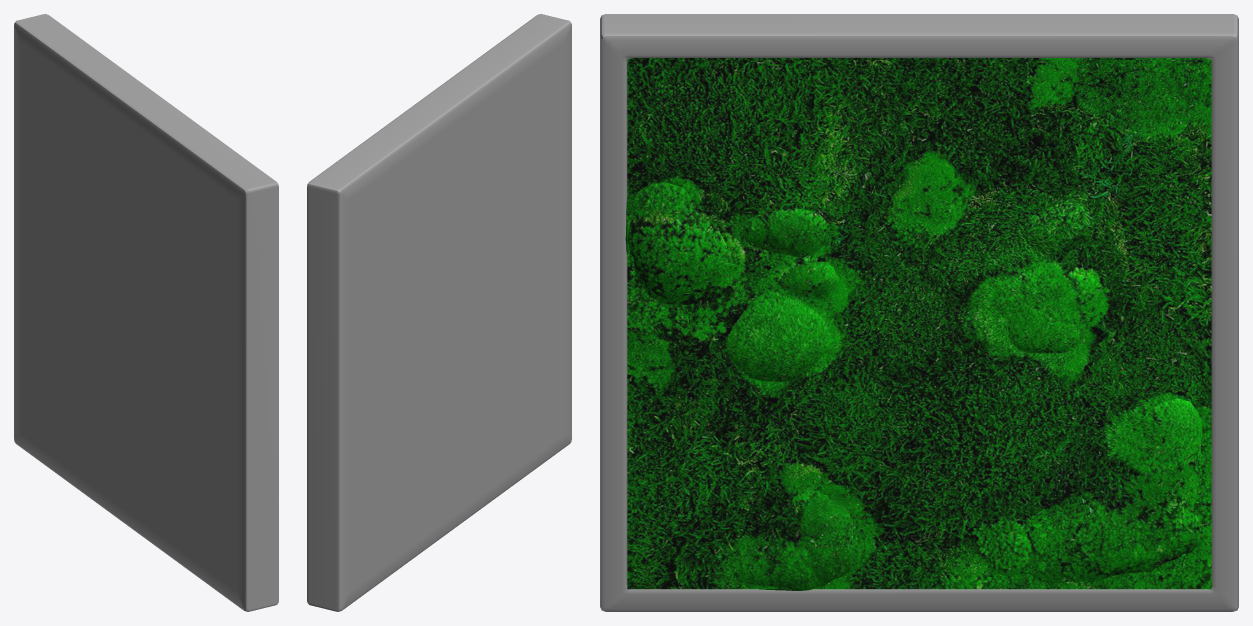
Rendered from Moosbild_Hugelmoos_350x350mm_white.fbx.
The picture shows the model from 3 angles, left to right: view 1: azimuth 30°, elevation 25°; view 2: azimuth 150°, elevation 25°; view 3: azimuth 270°, elevation 25°; orthographic projection. The views are drawn at different scales.
Visible parts, largest first — view 1: edge; view 2: edge; view 3: moss_low, edge, moss1.
Part boxes in pixels (x1,y1,x2,y2): edge: (14, 14, 278, 611); edge: (307, 14, 571, 611); moss_low: (627, 60, 1211, 589); edge: (600, 14, 1238, 611); moss1: (625, 58, 1210, 590).
Size of the model in its own units: 3.86 by 35 by 35.
Materials: 2 (1 with a texture image).
